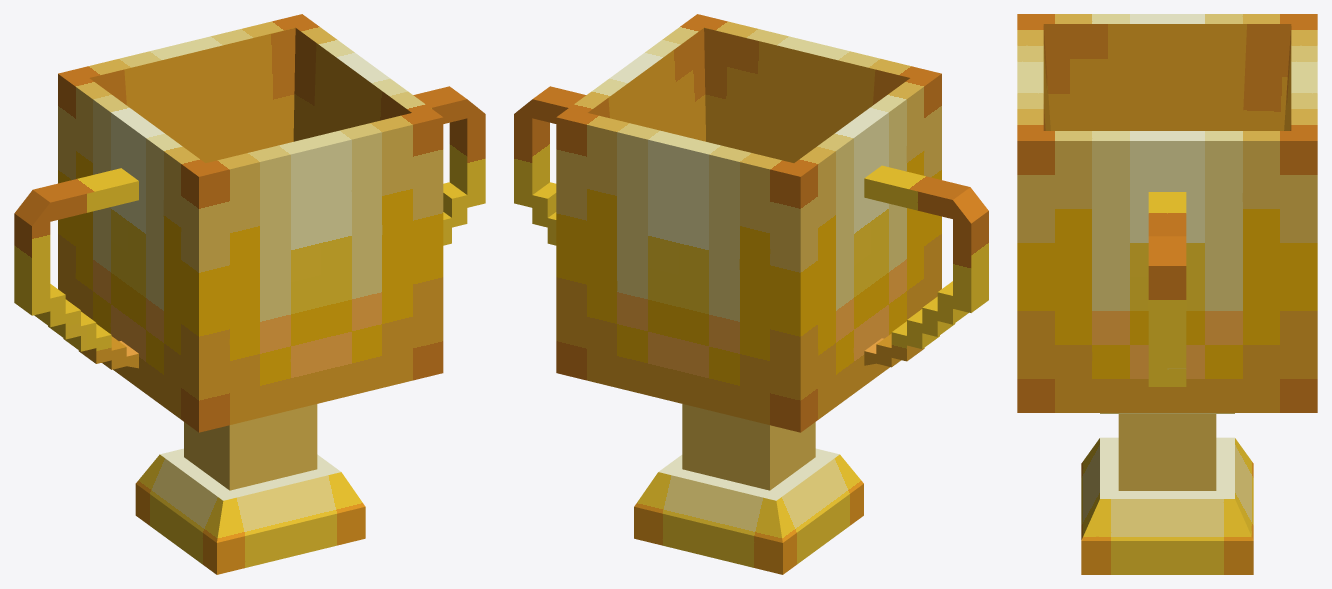
Rendered from trophy.glb.
3 renders of one model, left to right at view 1: azimuth 30°, elevation 25°; view 2: azimuth 150°, elevation 25°; view 3: azimuth 270°, elevation 25°, orthographic. The views are drawn at different scales.
Parts seen in each view (by area): view 1: cuboid_1, plane_2, plane_0; view 2: cuboid_1, plane_2, plane_0; view 3: cuboid_1, plane_0.
Part boxes in pixels (<box>): cuboid_1: <box>58,14,443,574</box>; plane_2: <box>14,168,138,369</box>; plane_0: <box>413,86,485,245</box>; cuboid_1: <box>556,14,941,574</box>; plane_2: <box>864,165,988,367</box>; plane_0: <box>514,86,586,245</box>; cuboid_1: <box>1017,14,1317,574</box>; plane_0: <box>1148,192,1186,398</box>.
Bounding box in the file's own units: 0.4656 × 0.4219 × 0.25.
1 material, 1 textured.
